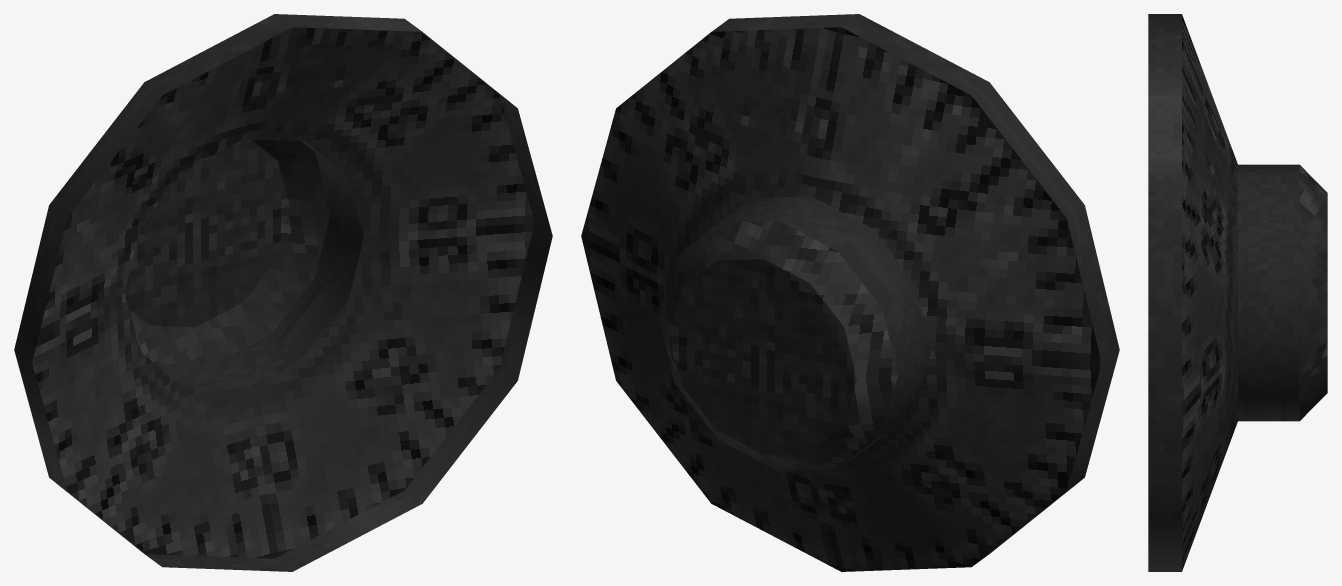
File: padlock_4_knob.glb
The picture shows the model from 3 angles, left to right: view 1: azimuth 30°, elevation 25°; view 2: azimuth 150°, elevation 25°; view 3: azimuth 270°, elevation 25°; orthographic projection. The views are drawn at different scales.
Visible parts, largest first — view 1: padlock_4_knob; view 2: padlock_4_knob; view 3: padlock_4_knob.
Boxes of the visible parts, bbox=[...] form: padlock_4_knob: bbox=[14, 14, 552, 571]; padlock_4_knob: bbox=[581, 14, 1119, 571]; padlock_4_knob: bbox=[1148, 14, 1327, 571].
Bounding box in the file's own units: 0.05 × 0.05 × 0.016.
Materials: 1 (1 with a texture image).
